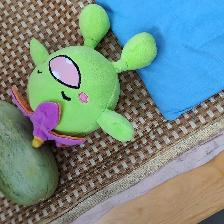gua: (8, 140, 38, 199)
